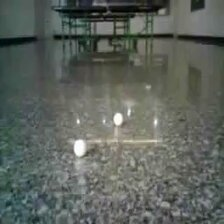w: (74, 139, 87, 157), (112, 112, 124, 125)
